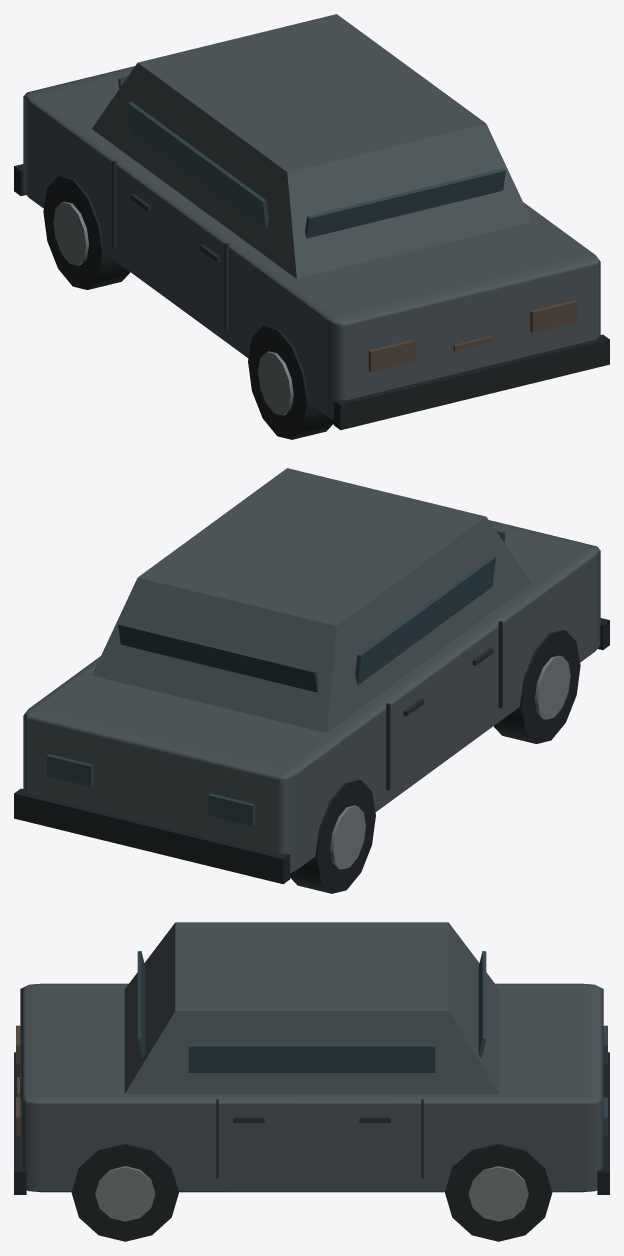
The model's file is hatchback-1.glb.
3 views of the same model, one above another, from view 1: azimuth 30°, elevation 25°; view 2: azimuth 150°, elevation 25°; view 3: azimuth 270°, elevation 25° (orthographic). The views are drawn at different scales.
Parts seen in each view (by area): view 1: hatchback/0/KR-230-1; view 2: hatchback/0/KR-230-1; view 3: hatchback/0/KR-230-1.
Boxes of the visible parts, x1=… form: hatchback/0/KR-230-1: x1=14, y1=14, x2=609, y2=439; hatchback/0/KR-230-1: x1=14, y1=468, x2=609, y2=893; hatchback/0/KR-230-1: x1=14, y1=922, x2=609, y2=1241.
Bounding box in the file's own units: 1.87 × 1.5 × 3.78.
